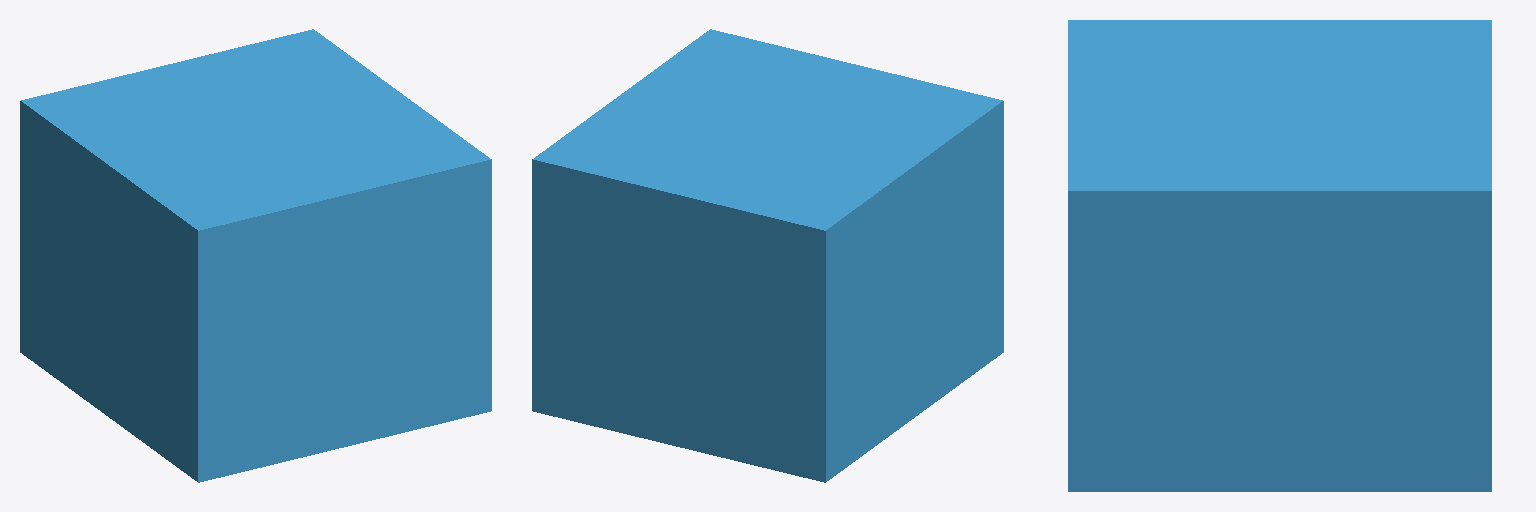
robot.urdf — panthera:
<?xml version="1.0" ?>
<robot name="panthera" xmlns:xacro="http://ros.org/wiki/xacro">

  <!-- links -->
  <link name="base_footprint"/>

  <joint name="base_joint" type="fixed">
    <parent link="base_footprint"/>
    <child link="base_link"/>
    <origin xyz="0.0 0.0 0.010" rpy="0 0 0"/>
  </joint>

  <link name="base_link">
    <visual>
        <origin xyz="0 0 0" rpy="0 0 0"/>
        <geometry>
            <box size="0.20597 0.216606 0.169247"/>
        </geometry>
    </visual>
    <collision>
        <origin xyz="0 0 0" rpy="0 0 0"/>
        <geometry>
            <box size="0.20597 0.216606 0.169247"/>
        </geometry>
    </collision>
    <inertial>
      <origin xyz="0 0 0" rpy="0 0 0"/>
      <mass value="1"/>
      <inertia ixx="0.166667" ixy="0.000000" ixz="0.000000" iyy="0.166667" iyz="0.000000" izz="0.166667"/>
    </inertial>
  </link>

  <link name="base_left">
    <visual>
      <geometry>
        <mesh filename="package://panthera_description/meshes/base_left.stl"/>
      </geometry>
      <origin xyz="0.0 0 0" rpy="0 0 0"/>
    </visual>
    <collision>
      <geometry>
        <mesh filename="package://panthera_description/meshes/base_left.stl"/>
      </geometry>
      <origin xyz="0.0 0 0" rpy="0 0 0"/>
    </collision>
    <inertial>
      <origin xyz="0 0.35 0" rpy="0 0 0"/>
      <mass value="1"/>
      <inertia ixx="0.166667" ixy="0.000000" ixz="0.000000" iyy="0.166667" iyz="0.000000" izz="0.166667"/>
    </inertial>
  </link>

  <link name="base_left_cover">
    <visual>
      <geometry>
        <mesh filename="package://panthera_description/meshes/base_left_cover.dae"/>
      </geometry>
      <origin xyz="0.0 0 0" rpy="0 0 0"/>
    </visual>
    <collision>
      <geometry>
        <mesh filename="package://panthera_description/meshes/base_left_cover.dae"/>
      </geometry>
      <origin xyz="0.0 0 0" rpy="0 0 0"/>
    </collision>
    <inertial>
      <origin xyz="0 0 0" rpy="0 0 0"/>
      <mass value="1"/>
      <inertia ixx="0.166667" ixy="0.000000" ixz="0.000000" iyy="0.166667" iyz="0.000000" izz="0.166667"/>
    </inertial>
  </link>

  <link name="base_right">
    <visual>
      <geometry>
        <mesh filename="package://panthera_description/meshes/base_right.stl"/>
      </geometry>
      <origin xyz="0 0 0" rpy="0 0 0"/>
    </visual>
    <collision>
      <geometry>
        <mesh filename="package://panthera_description/meshes/base_right.stl"/>
      </geometry>
      <origin xyz="0 0 0" rpy="0 0 0"/>
    </collision>
    <inertial>
      <origin xyz="0 -0.35 0" rpy="0 0 0"/>
      <mass value="1"/>
      <inertia ixx="0.166667" ixy="0.000000" ixz="0.000000" iyy="0.166667" iyz="0.000000" izz="0.166667"/>
    </inertial>
  </link>

  <link name="base_right_cover">
    <visual>
      <geometry>
        <mesh filename="package://panthera_description/meshes/base_right_cover.dae"/>
      </geometry>
      <origin xyz="0 0 0" rpy="0 0 0"/>
    </visual>
    <collision>
      <geometry>
        <mesh filename="package://panthera_description/meshes/base_right_cover.dae"/>
      </geometry>
      <origin xyz="0 0 0" rpy="0 0 0"/>
    </collision>
    <inertial>
      <origin xyz="0 0 0" rpy="0 0 0"/>
      <mass value="1"/>
      <inertia ixx="0.166667" ixy="0.000000" ixz="0.000000" iyy="0.166667" iyz="0.000000" izz="0.166667"/>
    </inertial>
  </link>

  <link name="fl_steering_link">
    <visual>
      <geometry>
        <mesh filename="package://panthera_description/meshes/wheel_holder_front_left.stl"/>
      </geometry>
      <origin xyz="0.0 0.0 0.0" rpy="0 0 0"/>
    </visual>
    <collision>
      <geometry>
        <mesh filename="package://panthera_description/meshes/wheel_holder_front_left.stl"/>
      </geometry>
      <origin xyz="0.0 0.0 0.0" rpy="0 0 0"/>
    </collision>
    <inertial>
      <origin rpy="0 0 0" xyz="0 0 0"/>
      <mass value="1"/>
      <inertia ixx="0.166667" ixy="0.000000" ixz="0.000000" iyy="0.166667" iyz="0.000000" izz="0.166667"/>
    </inertial>
  </link>

  <link name="fr_steering_link">
    <visual>
      <geometry>
        <mesh filename="package://panthera_description/meshes/wheel_holder_front_right.stl"/>
      </geometry>
      <origin xyz="0.0 0.0 0.0" rpy="0 0 0"/>
    </visual>
    <collision>
      <geometry>
        <mesh filename="package://panthera_description/meshes/wheel_holder_front_right.stl"/>
      </geometry>
      <origin xyz="0.0 0.0 0.0" rpy="0 0 0"/>
    </collision>
    <inertial>
      <origin rpy="0 0 0" xyz="0 0 0"/>
      <mass value="1"/>
      <inertia ixx="0.166667" ixy="0.000000" ixz="0.000000" iyy="0.166667" iyz="0.000000" izz="0.166667"/>
    </inertial>
  </link>

  <link name="rl_steering_link">
    <visual>
      <geometry>
        <mesh filename="package://panthera_description/meshes/wheel_holder_rear_left.stl"/>
      </geometry>
      <origin xyz="0.0 0.0 0.0" rpy="0 0 0"/>
    </visual>
    <collision>
      <geometry>
        <mesh filename="package://panthera_description/meshes/wheel_holder_rear_left.stl"/>
      </geometry>
      <origin xyz="0.0 0.0 0.0" rpy="0 0 0"/>
    </collision>
    <inertial>
      <origin rpy="0 0 0" xyz="0 0 0"/>
      <mass value="1"/>
      <inertia ixx="0.166667" ixy="0.000000" ixz="0.000000" iyy="0.166667" iyz="0.000000" izz="0.166667"/>
    </inertial>
  </link>

  <link name="rr_steering_link">
    <visual>
      <geometry>
        <mesh filename="package://panthera_description/meshes/wheel_holder_rear_right.stl"/>
      </geometry>
      <origin xyz="0.0 0.0 0.0" rpy="0 0 0"/>
    </visual>
    <collision>
      <geometry>
        <mesh filename="package://panthera_description/meshes/wheel_holder_rear_right.stl"/>
      </geometry>
      <origin xyz="0.0 0.0 0.0" rpy="0 0 0"/>
    </collision>
    <inertial>
      <origin rpy="0 0 0" xyz="0 0 0"/>
      <mass value="1"/>
      <inertia ixx="0.166667" ixy="0.000000" ixz="0.000000" iyy="0.166667" iyz="0.000000" izz="0.166667"/>
    </inertial>
  </link>

  <link name="fl_wheel_link">
    <visual>
      <geometry>
        <mesh filename="package://panthera_description/meshes/l_wheel.stl"/>
      </geometry>
      <origin xyz="0.0 0.0 0.0" rpy="0 0 0"/>
    </visual>
    <collision>
      <geometry>
        <mesh filename="package://panthera_description/meshes/l_wheel.stl"/>
      </geometry>
      <origin xyz="0.0 0.0 0.0" rpy="0 0 0"/>
    </collision>
    <inertial>
      <origin rpy="0 0 0" xyz="0 0 0"/>
      <mass value="1"/>
      <inertia ixx="0.166667" ixy="0.000000" ixz="0.000000" iyy="0.166667" iyz="0.000000" izz="0.166667"/>
    </inertial>
  </link>

  <link name="rl_wheel_link">
    <visual>
      <geometry>
        <mesh filename="package://panthera_description/meshes/l_wheel.stl"/>
      </geometry>
      <origin xyz="0.0 0.0 0.0" rpy="0 0 0"/>
    </visual>
    <collision>
      <geometry>
        <mesh filename="package://panthera_description/meshes/l_wheel.stl"/>
      </geometry>
      <origin xyz="0.0 0.0 0.0" rpy="0 0 0"/>
    </collision>
    <inertial>
      <origin rpy="0 0 0" xyz="0 0 0"/>
      <mass value="1"/>
      <inertia ixx="0.166667" ixy="0.000000" ixz="0.000000" iyy="0.166667" iyz="0.000000" izz="0.166667"/>
    </inertial>
  </link>

  <link name="fr_wheel_link">
    <visual>
      <geometry>
        <mesh filename="package://panthera_description/meshes/r_wheel.stl"/>
      </geometry>
      <origin xyz="0.0 0.0 0.0" rpy="0 0 0"/>
    </visual>
    <collision>
      <geometry>
        <mesh filename="package://panthera_description/meshes/r_wheel.stl"/>
      </geometry>
      <origin xyz="0.0 0.0 0.0" rpy="0 0 0"/>
    </collision>
    <inertial>
      <origin rpy="0 0 0" xyz="0 0 0"/>
      <mass value="1"/>
      <inertia ixx="0.166667" ixy="0.000000" ixz="0.000000" iyy="0.166667" iyz="0.000000" izz="0.166667"/>
    </inertial>
  </link>

  <link name="rr_wheel_link">
    <visual>
      <geometry>
        <mesh filename="package://panthera_description/meshes/r_wheel.stl"/>
      </geometry>
      <origin xyz="0.0 0.0 0.0" rpy="0 0 0"/>
    </visual>
    <collision>
      <geometry>
        <mesh filename="package://panthera_description/meshes/r_wheel.stl"/>
      </geometry>
      <origin xyz="0.0 0.0 0.0" rpy="0 0 0"/>
    </collision>
    <inertial>
      <origin rpy="0 0 0" xyz="0 0 0"/>
      <mass value="1"/>
      <inertia ixx="0.166667" ixy="0.000000" ixz="0.000000" iyy="0.166667" iyz="0.000000" izz="0.166667"/>
    </inertial>
  </link>

  <!-- joints -->
  <joint name="base_left_joint" type="prismatic">
    <axis xyz="0 1 0"/>
    <limit effort="10.0" lower="0" upper="0.2" velocity="0.1"/>
    <parent link="base_link"/>
    <child link="base_left"/>
    <origin xyz="0 0.35 0" rpy="0 0 0"/>
  </joint>

  <joint name="base_left_cover_joint" type="fixed">
    <parent link="base_left"/>
    <child link="base_left_cover"/>
    <origin xyz="0 0.15 -0.1" rpy="0 0 0"/>
  </joint>

  <joint name="base_right_joint" type="prismatic">
    <axis xyz="0 1 0"/>
    <limit effort="10.0" lower="-0.2" upper="0" velocity="0.1"/>
    <parent link="base_link"/>
    <child link="base_right"/>
    <origin xyz="0 -0.35 0" rpy="0 0 0"/>
  </joint>

  <joint name="base_right_cover_joint" type="fixed">
    <parent link="base_right"/>
    <child link="base_right_cover"/>
    <origin xyz="0 -0.15 -0.1" rpy="0 0 0"/>
  </joint>

  <joint name="fl_steering_link_joint" type="revolute">
    <axis xyz="0 0 1"/>
    <limit effort="1000.0" lower="-1.571" upper="1.571" velocity="0.5"/>
    <origin xyz="0.654 0.0 0.05" rpy="0 0 0"/>
    <parent link="base_left"/>
    <child link="fl_steering_link"/>
  </joint>

  <joint name="fr_steering_link_joint" type="revolute">
    <axis xyz="0 0 1"/>
    <limit effort="1000.0" lower="-1.571" upper="1.571" velocity="0.5"/>
    <origin xyz="0.654 0.0 0.05" rpy="0 0 0"/>
    <parent link="base_right"/>
    <child link="fr_steering_link"/>
  </joint>

  <joint name="rl_steering_link_joint" type="revolute">
    <axis xyz="0 0 1"/>
    <limit effort="1000.0" lower="-1.571" upper="1.571" velocity="0.5"/>
    <origin xyz="-0.654 0.0 0.05" rpy="0 0 0"/>
    <parent link="base_left"/>
    <child link="rl_steering_link"/>
  </joint>

  <joint name="rr_steering_link_joint" type="revolute">
    <axis xyz="0 0 1"/>
    <limit effort="1000.0" lower="-1.571" upper="1.571" velocity="0.5"/>
    <origin xyz="-0.654 0.0 0.05" rpy="0 0 0"/>
    <parent link="base_right"/>
    <child link="rr_steering_link"/>
  </joint>

  <joint name="fl_wheel_link_joint" type="continuous">
    <axis xyz="0 1 0"/>
    <origin xyz="0 0 -0.29" rpy="0 0 0"/>
    <parent link="fl_steering_link"/>
    <child link="fl_wheel_link"/>
  </joint>

  <joint name="rl_wheel_link_joint" type="continuous">
    <axis xyz="0 1 0"/>
    <origin xyz="0 0 -0.29" rpy="0 0 0"/>
    <parent link="rl_steering_link"/>
    <child link="rl_wheel_link"/>
  </joint>

  <joint name="fr_wheel_link_joint" type="continuous">
    <axis xyz="0 1 0"/>
    <origin xyz="0 0 -0.29" rpy="0 0 0"/>
    <parent link="fr_steering_link"/>
    <child link="fr_wheel_link"/>
  </joint>

  <joint name="rr_wheel_link_joint" type="continuous">
    <axis xyz="0 1 0"/>
    <origin xyz="0 0 -0.29" rpy="0 0 0"/>
    <parent link="rr_steering_link"/>
    <child link="rr_wheel_link"/>
  </joint>

  <!-- gazebo related -->

  <!-- materials -->
  <gazebo reference="base_left">
    <material>Gazebo/Grey</material>
  </gazebo>

  <gazebo reference="base_right">
    <material>Gazebo/Grey</material>
  </gazebo>

  <gazebo reference="fl_steering_link">
    <material>Gazebo/Grey</material>
  </gazebo>

  <gazebo reference="fr_steering_link">
    <material>Gazebo/Grey</material>
  </gazebo>

  <gazebo reference="rl_steering_link">
    <material>Gazebo/Grey</material>
  </gazebo>

  <gazebo reference="rr_steering_link">
    <material>Gazebo/Grey</material>
  </gazebo>

  <gazebo reference="fl_wheel_link">
    <mu1 value="0.01" />
    <mu2 value="0.01" />
    <kp  value="1000000.0" />
    <kd  value="1.0" />
    <material>Gazebo/Black</material>
  </gazebo>

  <gazebo reference="fr_wheel_link">
    <mu1 value="0.01" />
    <mu2 value="0.01" />
    <kp  value="1000000.0" />
    <kd  value="1.0" />
    <material>Gazebo/Black</material>
  </gazebo>

  <gazebo reference="rl_wheel_link">
    <mu1 value="0.01" />
    <mu2 value="0.01" />
    <kp  value="1000000.0" />
    <kd  value="1.0" />
    <material>Gazebo/Black</material>
  </gazebo>

  <gazebo reference="rr_wheel_link">
    <mu1 value="0.01" />
    <mu2 value="0.01" />
    <kp  value="1000000.0" />
    <kd  value="1.0" />
    <material>Gazebo/Black</material>
  </gazebo>

  <!-- controllers -->
  <gazebo>
    <plugin name="gazebo_ros_control" filename="libgazebo_ros_control.so">
      <robotNamespace>/panthera_robot</robotNamespace>
    </plugin>
  </gazebo>

  <transmission name="base_left_joint_trans">
    <type>transmission_interface/SimpleTransmission</type>
    <actuator name="base_left_joint_motor">
      <hardwareInterface>PositionJointInterface</hardwareInterface>
      <mechanicalReduction>1</mechanicalReduction>
    </actuator>
    <joint name="base_left_joint">
      <hardwareInterface>hardware_interface/PositionJointInterface</hardwareInterface>
    </joint>
  </transmission>

  <transmission name="base_right_joint_trans">
    <type>transmission_interface/SimpleTransmission</type>
    <actuator name="base_right_joint_motor">
      <hardwareInterface>PositionJointInterface</hardwareInterface>
      <mechanicalReduction>1</mechanicalReduction>
    </actuator>
    <joint name="base_right_joint">
      <hardwareInterface>hardware_interface/PositionJointInterface</hardwareInterface>
    </joint>
  </transmission>

  <transmission name="fl_steering_trans">
    <type>transmission_interface/SimpleTransmission</type>
    <actuator name="fl_steering_motor">
      <hardwareInterface>PositionJointInterface</hardwareInterface>
      <mechanicalReduction>1</mechanicalReduction>
    </actuator>
    <joint name="fl_steering_link_joint">
      <hardwareInterface>hardware_interface/PositionJointInterface</hardwareInterface>
    </joint>
  </transmission>

  <transmission name="fr_steering_trans">
    <type>transmission_interface/SimpleTransmission</type>
    <actuator name="fr_steering_motor">
      <hardwareInterface>PositionJointInterface</hardwareInterface>
      <mechanicalReduction>1</mechanicalReduction>
    </actuator>
    <joint name="fr_steering_link_joint">
      <hardwareInterface>hardware_interface/PositionJointInterface</hardwareInterface>
    </joint>
  </transmission>

  <transmission name="rl_steering_trans">
    <type>transmission_interface/SimpleTransmission</type>
    <actuator name="rl_steering_motor">
      <hardwareInterface>PositionJointInterface</hardwareInterface>
      <mechanicalReduction>1</mechanicalReduction>
    </actuator>
    <joint name="rl_steering_link_joint">
      <hardwareInterface>hardware_interface/PositionJointInterface</hardwareInterface>
    </joint>
  </transmission>

  <transmission name="rr_steering_trans">
    <type>transmission_interface/SimpleTransmission</type>
    <actuator name="rr_steering_motor">
      <hardwareInterface>PositionJointInterface</hardwareInterface>
      <mechanicalReduction>1</mechanicalReduction>
    </actuator>
    <joint name="rr_steering_link_joint">
      <hardwareInterface>hardware_interface/PositionJointInterface</hardwareInterface>
    </joint>
  </transmission>

  <transmission name="fl_wheel_trans">
    <type>transmission_interface/SimpleTransmission</type>
    <actuator name="fl_wheel_motor">
      <hardwareInterface>VelocityJointInterface</hardwareInterface>
      <mechanicalReduction>1</mechanicalReduction>
    </actuator>
    <joint name="fl_wheel_link_joint">
      <hardwareInterface>hardware_interface/VelocityJointInterface</hardwareInterface>
    </joint>
  </transmission>

  <transmission name="fr_wheel_trans">
    <type>transmission_interface/SimpleTransmission</type>
    <actuator name="fr_wheel_motor">
      <hardwareInterface>VelocityJointInterface</hardwareInterface>
      <mechanicalReduction>1</mechanicalReduction>
    </actuator>
    <joint name="fr_wheel_link_joint">
      <hardwareInterface>hardware_interface/VelocityJointInterface</hardwareInterface>
    </joint>
  </transmission>

  <transmission name="rl_wheel_trans">
    <type>transmission_interface/SimpleTransmission</type>
    <actuator name="rl_wheel_motor">
      <hardwareInterface>VelocityJointInterface</hardwareInterface>
      <mechanicalReduction>1</mechanicalReduction>
    </actuator>
    <joint name="rl_wheel_link_joint">
      <hardwareInterface>hardware_interface/VelocityJointInterface</hardwareInterface>
    </joint>
  </transmission>

  <transmission name="rr_wheel_trans">
    <type>transmission_interface/SimpleTransmission</type>
    <actuator name="rr_wheel_motor">
      <hardwareInterface>VelocityJointInterface</hardwareInterface>
      <mechanicalReduction>1</mechanicalReduction>
    </actuator>
    <joint name="rr_wheel_link_joint">
      <hardwareInterface>hardware_interface/VelocityJointInterface</hardwareInterface>
    </joint>
  </transmission>

</robot>

--- What the picture shows (computed from the rendered views, not written in the file) ---
Views: 3 orthographic renders of the robot side by side, from view 1: azimuth 30°, elevation 25°; view 2: azimuth 150°, elevation 25°; view 3: azimuth 270°, elevation 25°.
Model panthera with 14 links and 13 joints (4 revolute, 4 continuous, 2 prismatic, 3 fixed), rooted at base_footprint, posed every joint at zero.
Visible links, largest first — view 1: base_link; view 2: base_link; view 3: base_link.
Link boxes in pixels (left/top/right/bottom): base_link: left=20, top=29, right=491, bottom=482; base_link: left=532, top=29, right=1003, bottom=482; base_link: left=1068, top=20, right=1491, bottom=491.
Size in the robot's own frame: 0.206 by 0.2166 by 0.1692 metres.
0 mesh visuals loaded from 10 distinct referenced files (none loaded); not drawn: 12 (reference not matched to a file when rendering).